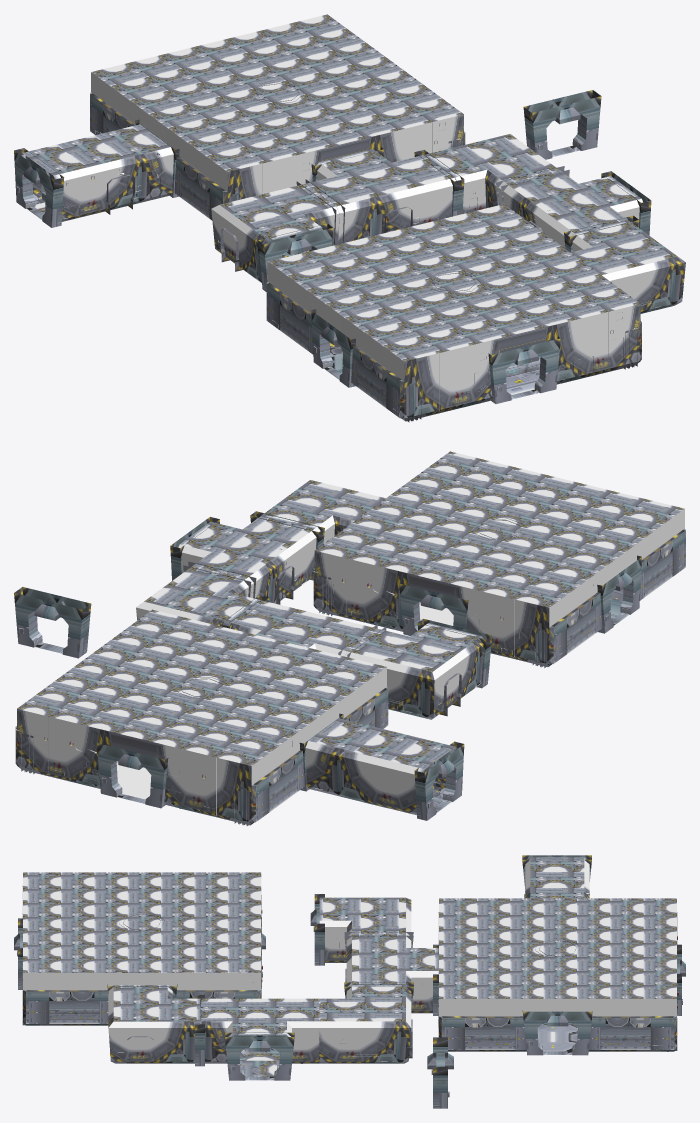
The model's file is Combined_Mesh_root_scene__15_7f71ba4d__ZombiesII_laboratory_07_d_a6872bb1_c1f257.obj.
3 views of the same model, one above another, from view 1: azimuth 30°, elevation 25°; view 2: azimuth 150°, elevation 25°; view 3: azimuth 270°, elevation 25° (orthographic). The views are drawn at different scales.
Bounding box in the file's own units: 84.62 × 10.34 × 113.
591 materials, 591 textured.
